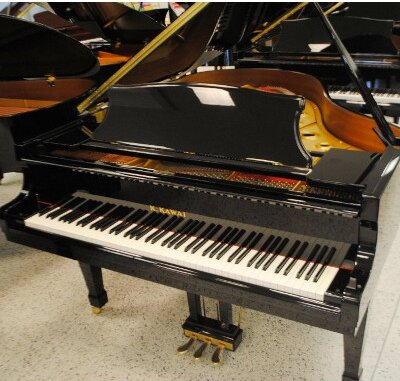GrandPiano: (36, 80, 388, 327)
